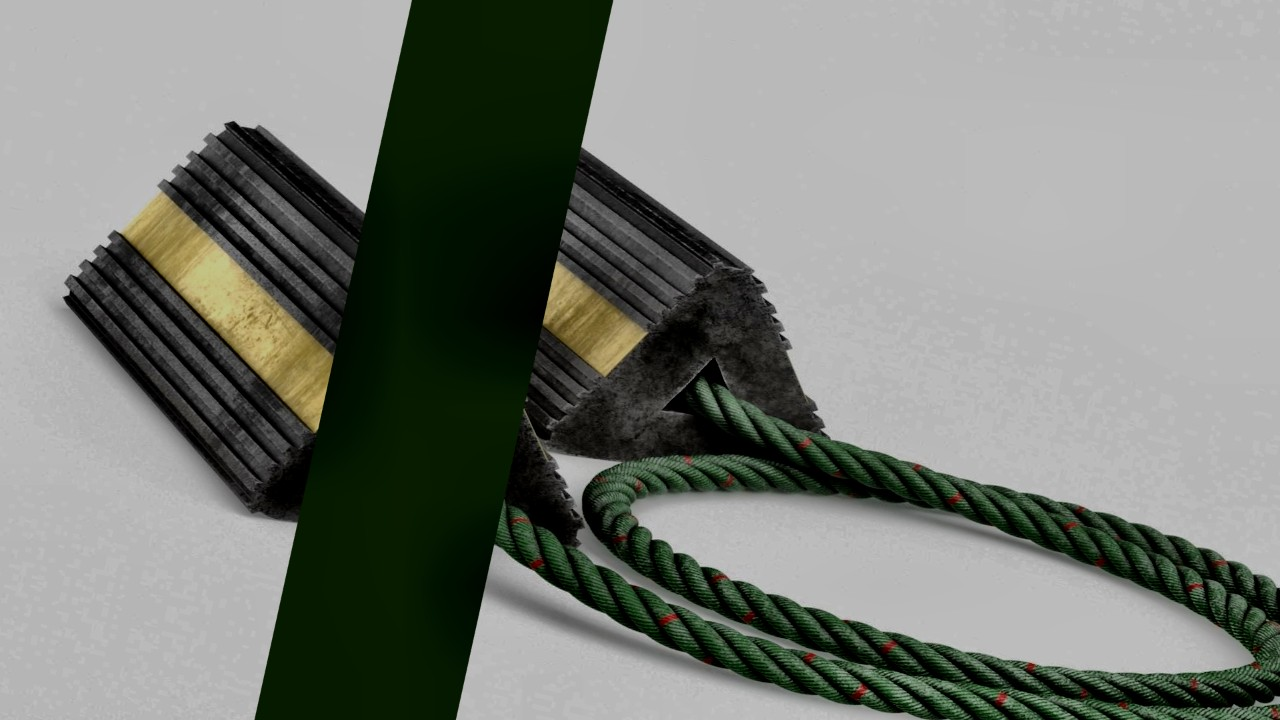chock: (22, 81, 654, 591), (329, 76, 903, 521)
